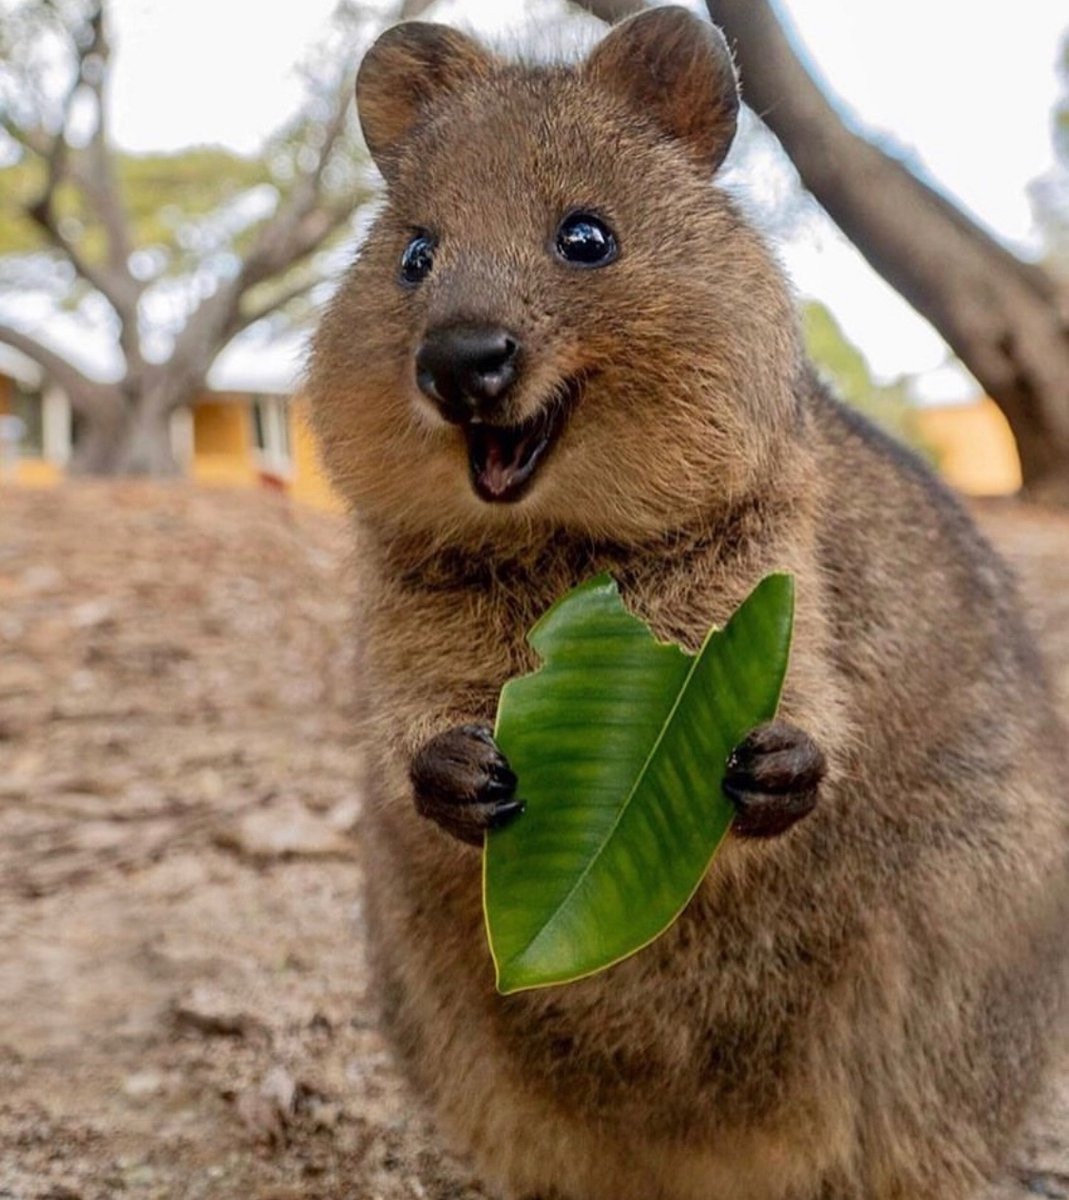quokka: (277, 18, 1056, 1200)
